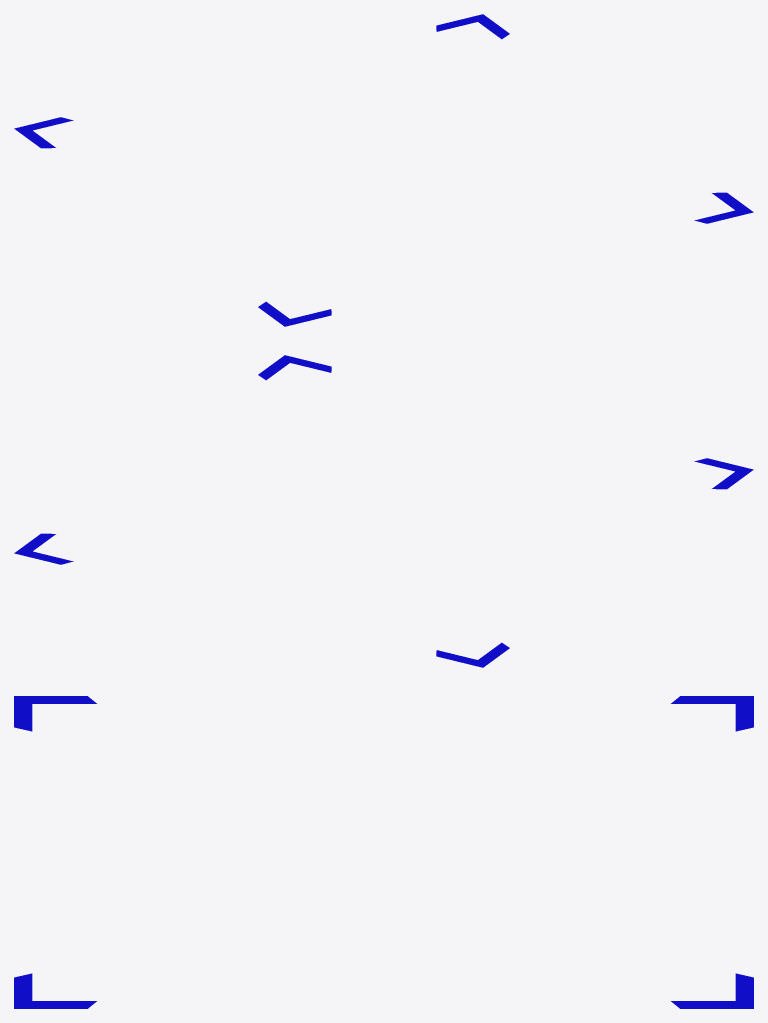
The model's file is border3.glb.
3 renders of one model, top to bottom at view 1: azimuth 30°, elevation 25°; view 2: azimuth 150°, elevation 25°; view 3: azimuth 270°, elevation 25°, orthographic. The views are drawn at different scales.
Parts seen in each view (by area): view 1: BorderEdges; view 2: BorderEdges; view 3: BorderEdges.
Boxes of the visible parts, x1,y1,x2,y2 form: BorderEdges: [14, 14, 753, 326]; BorderEdges: [14, 355, 753, 667]; BorderEdges: [14, 696, 753, 1008].
Size of the model in its own units: 2.07 by 0 by 2.07.
